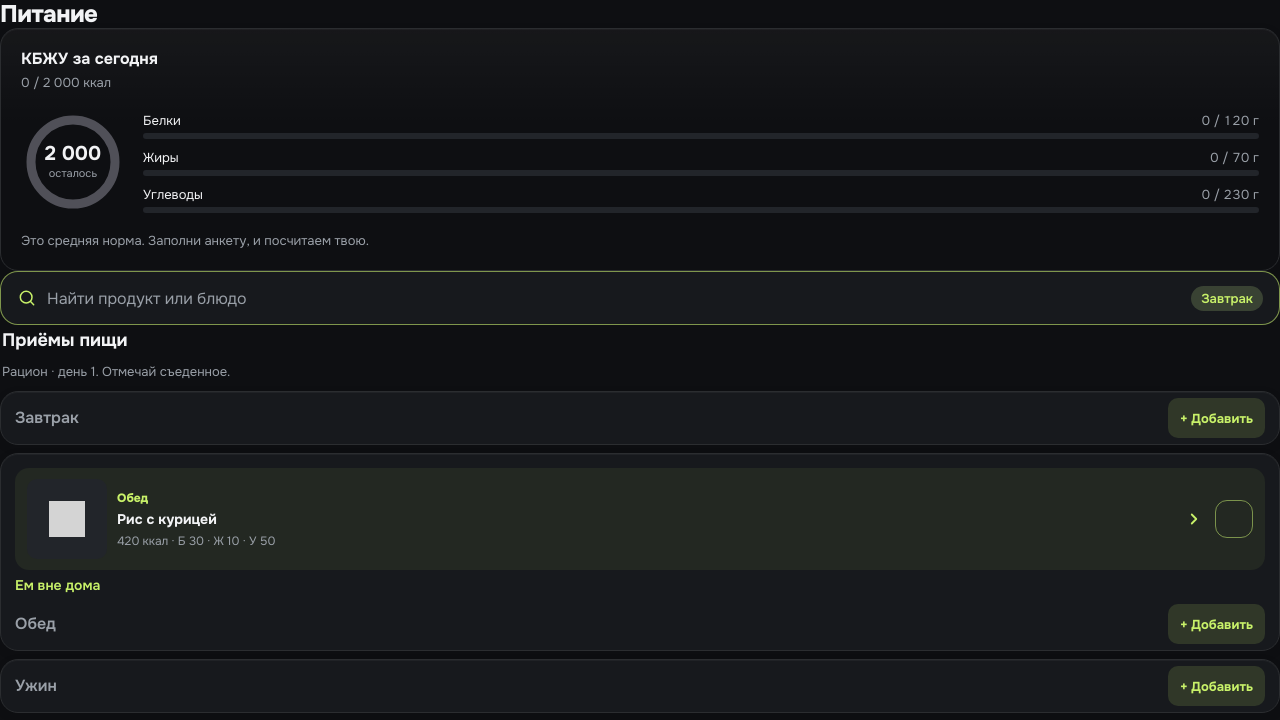
Test: «Ем вне дома» снимает блюдо рациона на сегодня и открывает запись еды
Click the button "Ем вне дома" at {"x": 58, "y": 588}, box [15,574,100,602]
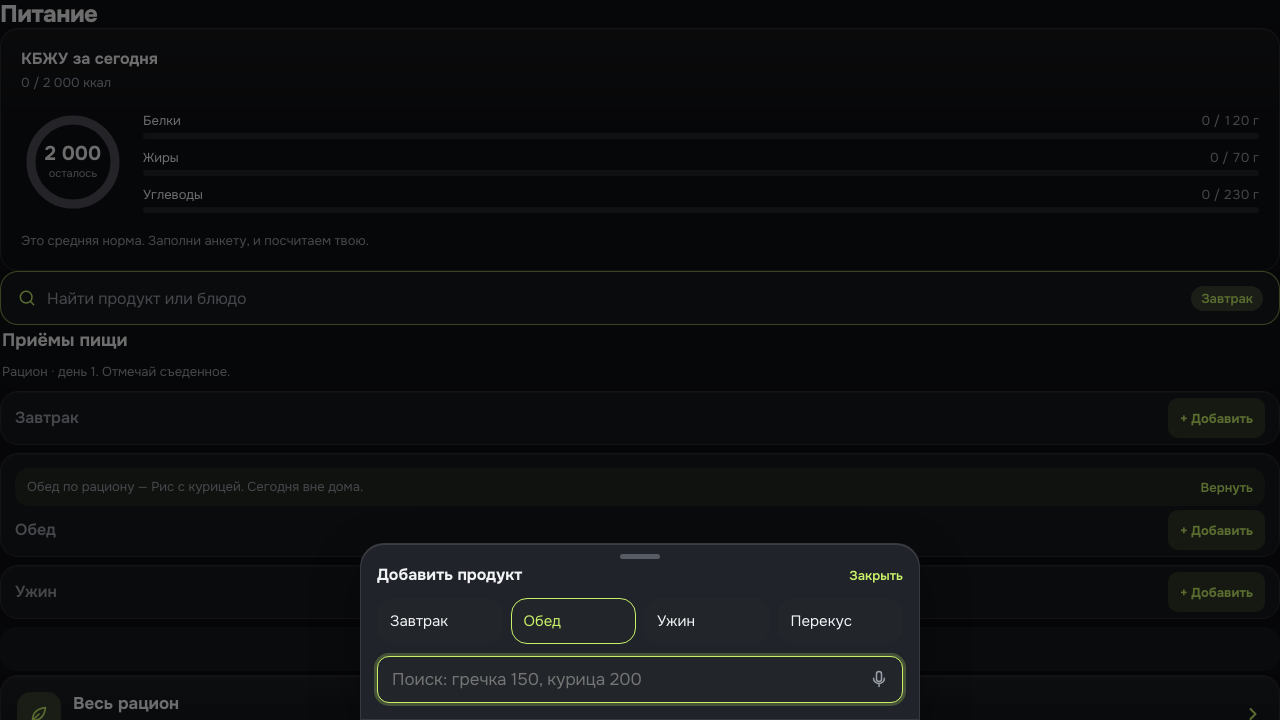
Now the text "Обед по рациону — Рис с курицей. Сегодня вне дома." is shown, box [27,478,363,496]
Now the heading "Добавить продукт" is shown, box [377,565,522,586]
